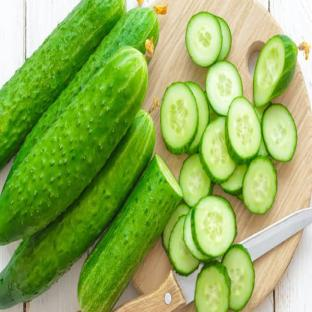Cucumber: (0, 111, 155, 308), (0, 47, 147, 244), (7, 8, 158, 180), (0, 0, 126, 167), (78, 155, 182, 311), (254, 36, 297, 106), (192, 196, 236, 257), (161, 82, 198, 154), (199, 117, 236, 183), (226, 97, 261, 164), (222, 245, 255, 311), (262, 104, 297, 162), (186, 12, 222, 67), (206, 61, 242, 116), (243, 157, 277, 214), (169, 216, 199, 276), (195, 261, 230, 311), (180, 154, 212, 206), (186, 82, 209, 154), (183, 211, 209, 262), (162, 204, 190, 251), (221, 165, 247, 195), (216, 17, 231, 60), (255, 103, 271, 123), (255, 103, 272, 121), (209, 105, 219, 122), (258, 139, 268, 156), (237, 193, 243, 200)
